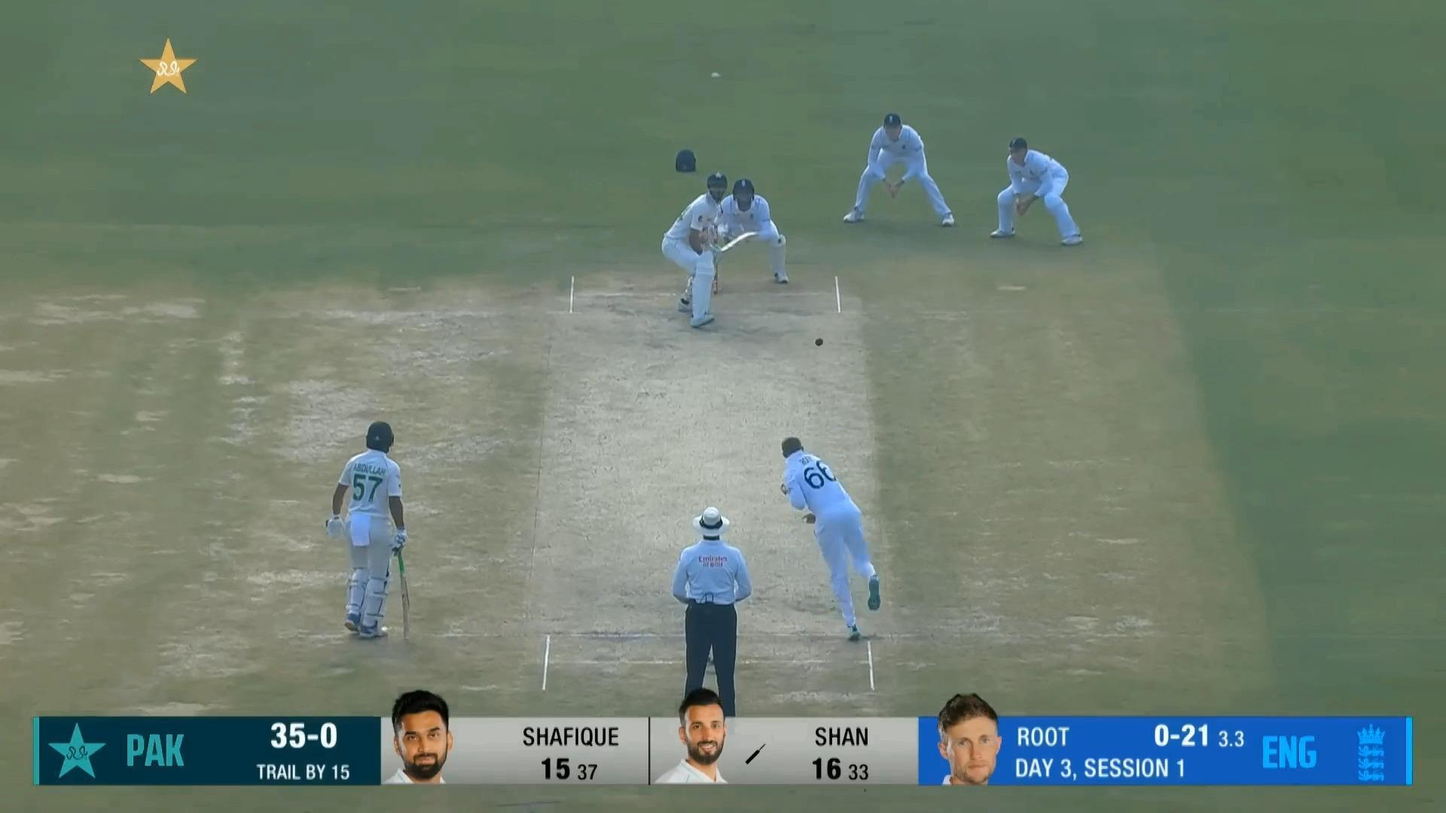BM 1: (661, 172, 759, 328)
BO: (778, 435, 883, 642)
